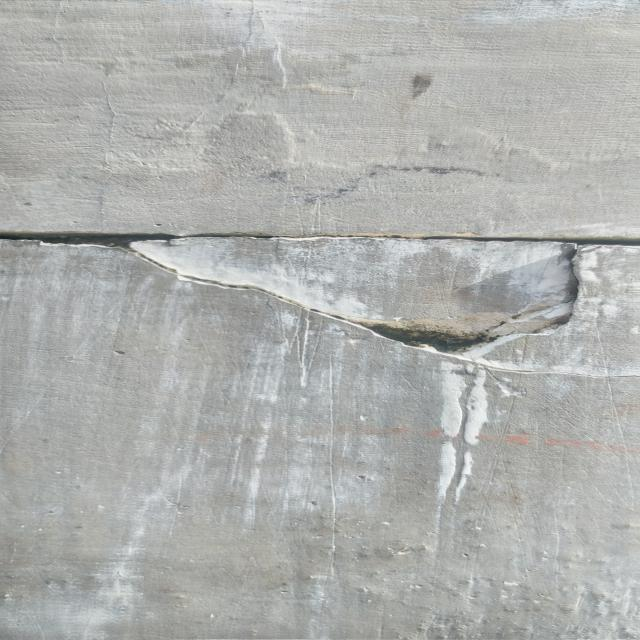Crack: (1, 226, 640, 382)
